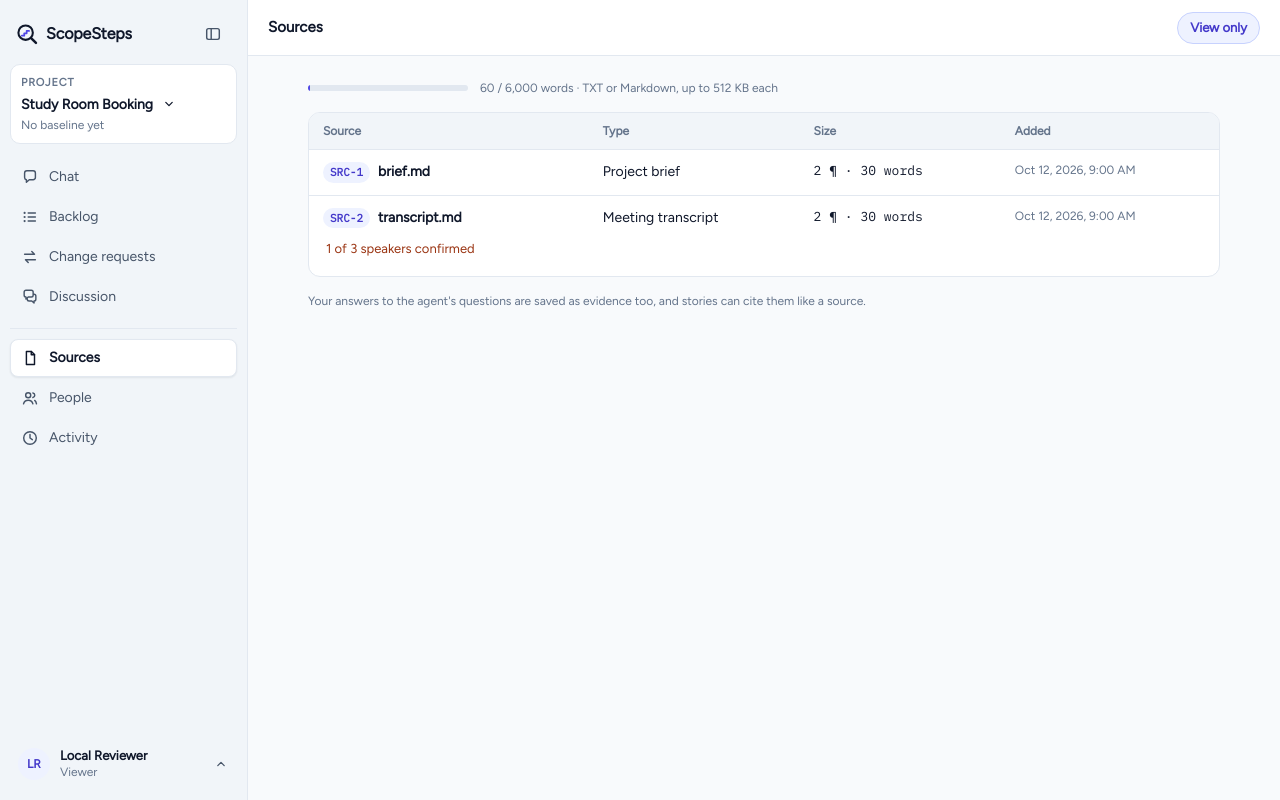
Scenario: Who's who › shows the answers read-only to a member without the Editor role
Click the button with aria-label "Who's who in SRC-2 transcript.md" at (400, 249), box left=315, top=234, right=486, bottom=264
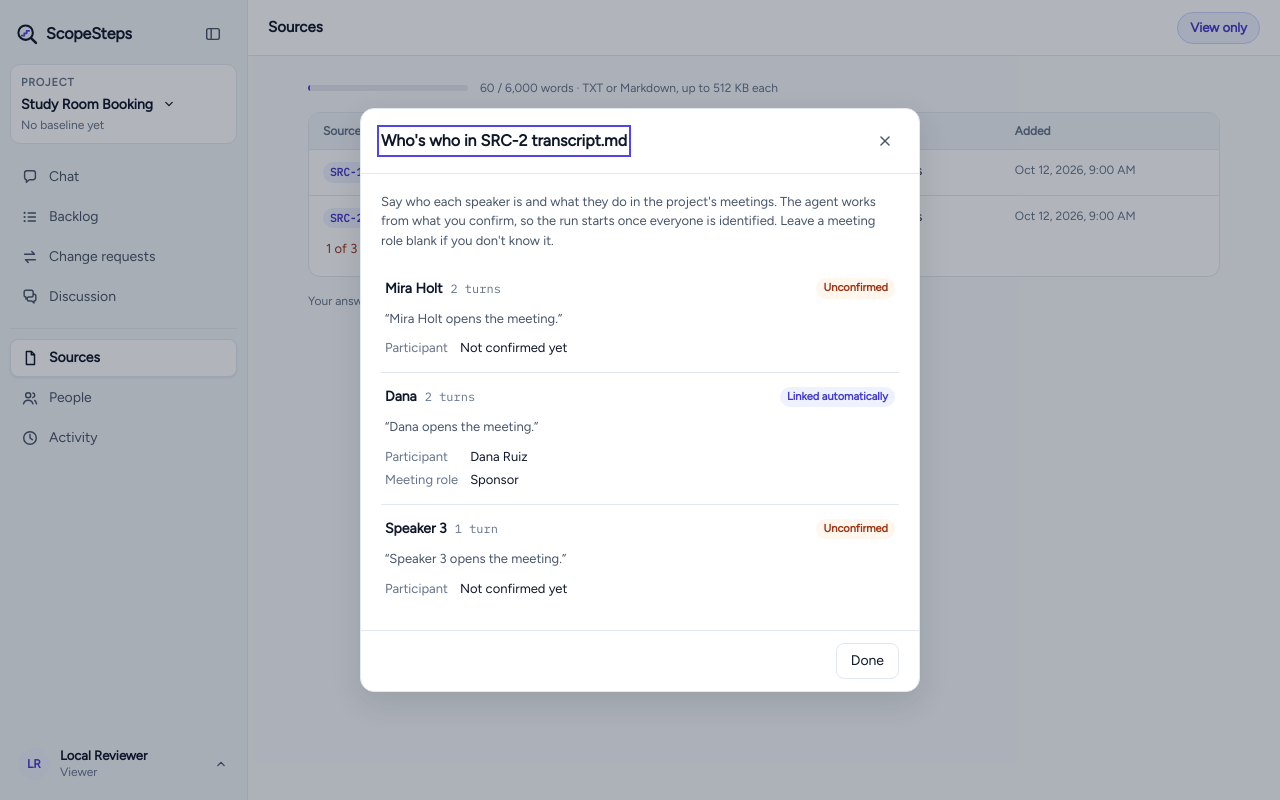
Expected: the text "Dana Ruiz" is shown, left=470, top=449, right=528, bottom=464
Expected: the text "Sponsor" is shown, left=470, top=472, right=519, bottom=487
Expected: the text "Not confirmed yet" below "Mira Holt opens the meeting." is shown, left=460, top=340, right=567, bottom=355
Click the button "Done" at (867, 661), box left=836, top=643, right=899, bottom=679
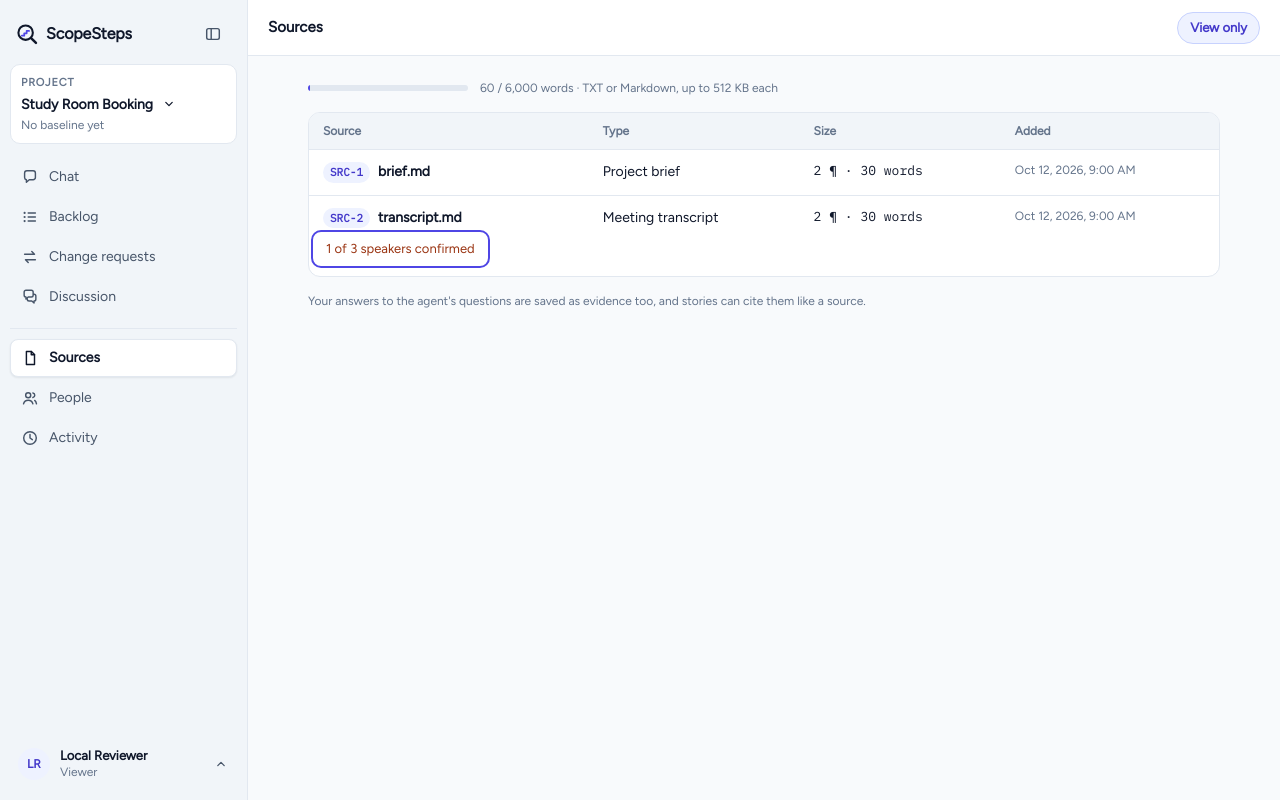
Expected: the dialog is gone
